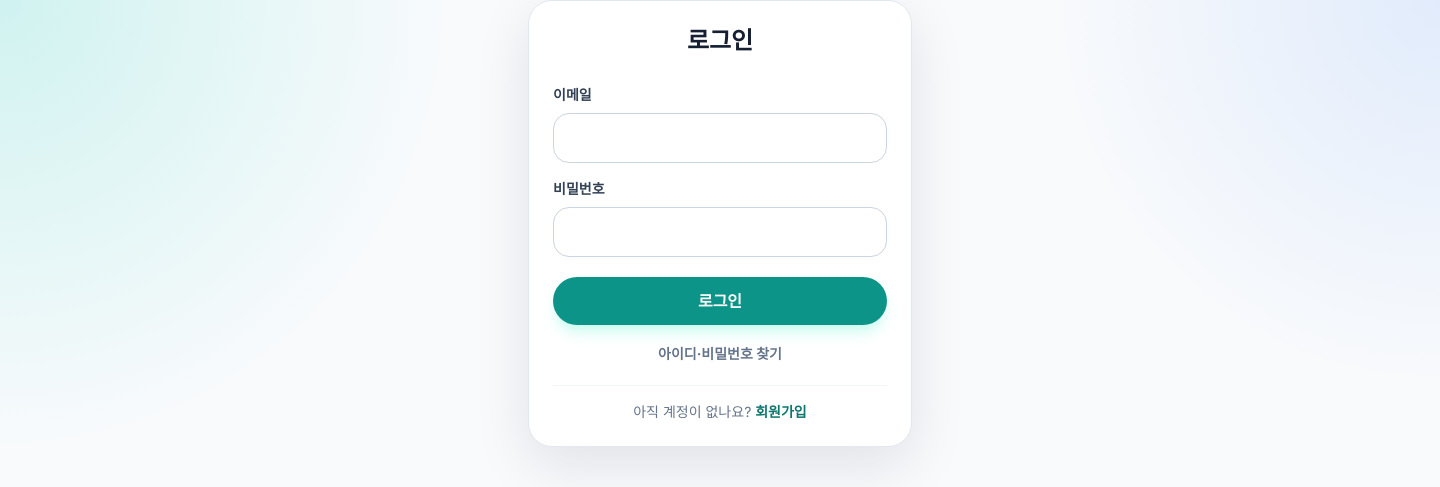
AuthPanel › moves signup behind the small signup link instead of showing two forms at once
Click the button "회원가입". click: x=781, y=412
box: x1=755 y1=402 x2=807 y2=422
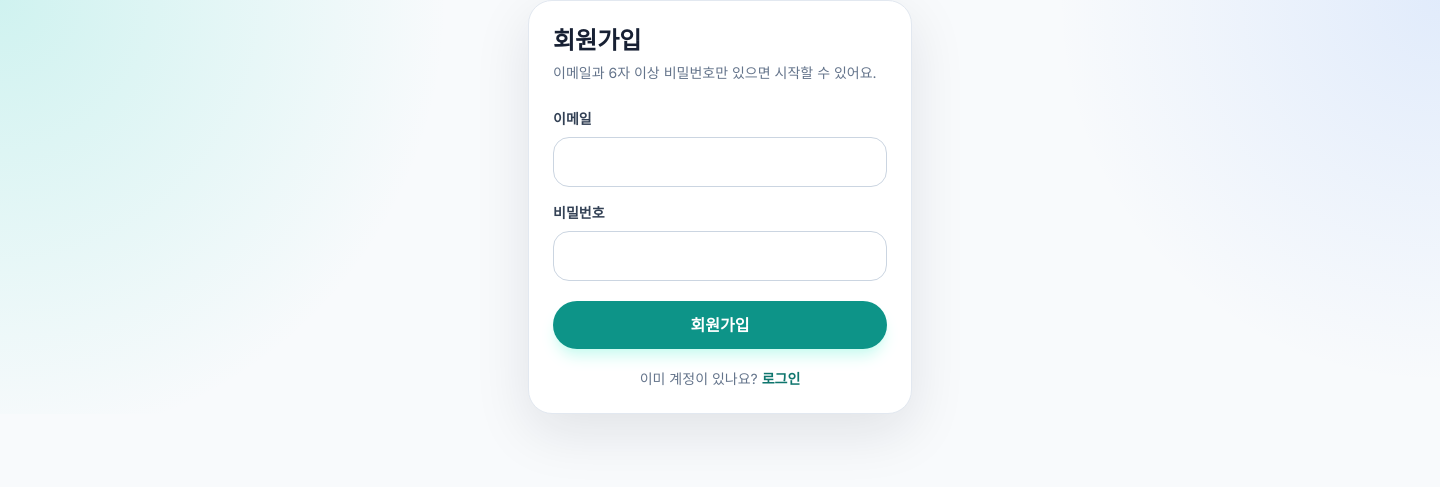
expect the heading "회원가입" is shown: met, box x1=553 y1=26 x2=641 y2=55
expect the button "로그인" is shown: met, box x1=762 y1=369 x2=800 y2=389
